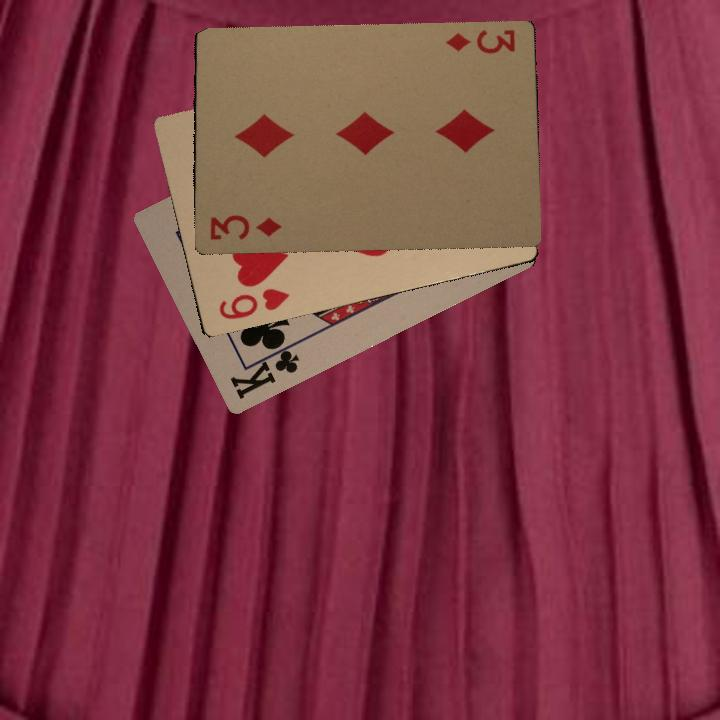3d: (205, 210, 284, 243), (442, 25, 517, 56)
6h: (215, 284, 290, 322)
Kc: (226, 338, 302, 402)
